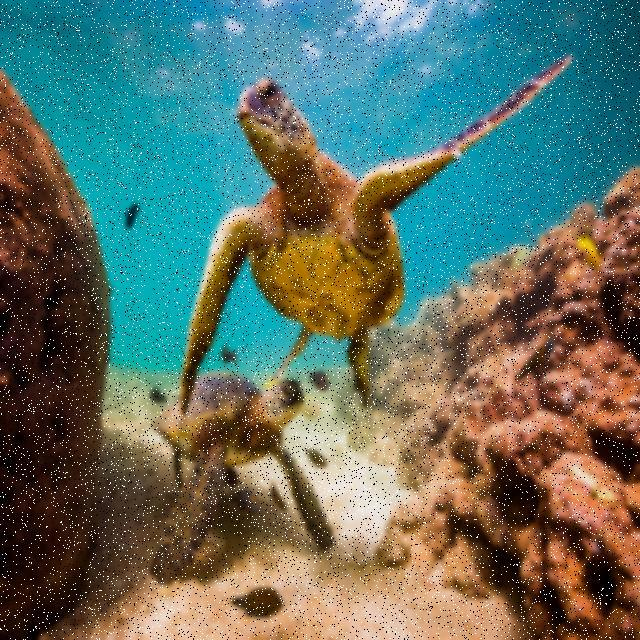tortoise: (157, 36, 591, 420)
